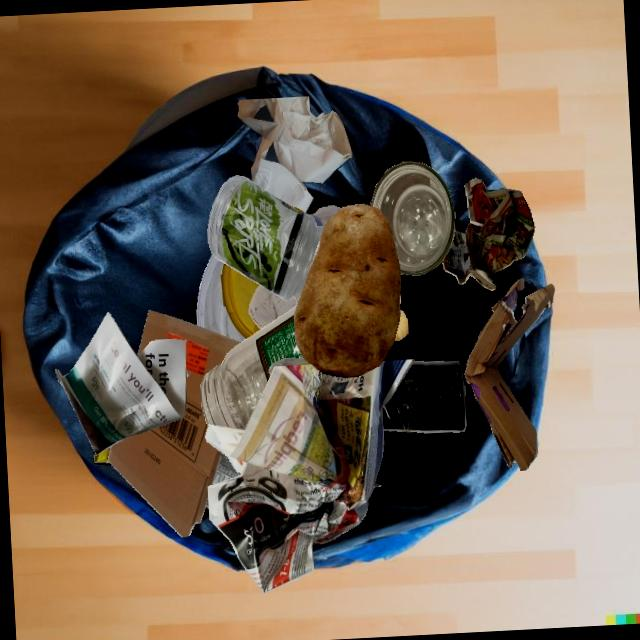biowaste: (293, 203, 401, 377), (394, 310, 409, 341)
cardboard: (108, 310, 241, 537), (465, 278, 555, 470), (372, 483, 382, 492)
glass: (201, 305, 304, 429), (370, 161, 455, 276)
paper: (205, 359, 415, 594), (55, 312, 186, 455), (238, 96, 353, 213), (443, 178, 535, 290), (248, 285, 298, 329)
plastic: (207, 175, 324, 304), (382, 361, 466, 433), (197, 254, 245, 342), (220, 262, 261, 340), (212, 452, 241, 485), (308, 205, 341, 227)
trash: (93, 446, 112, 465)
